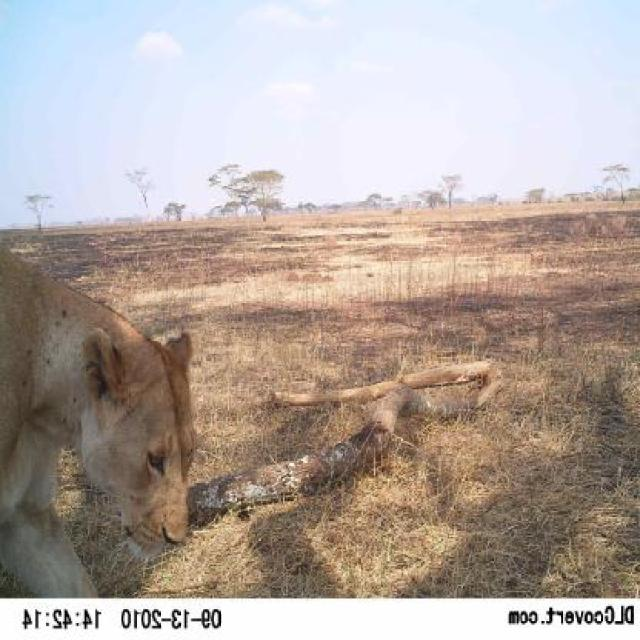Lion: (1, 230, 214, 596)
